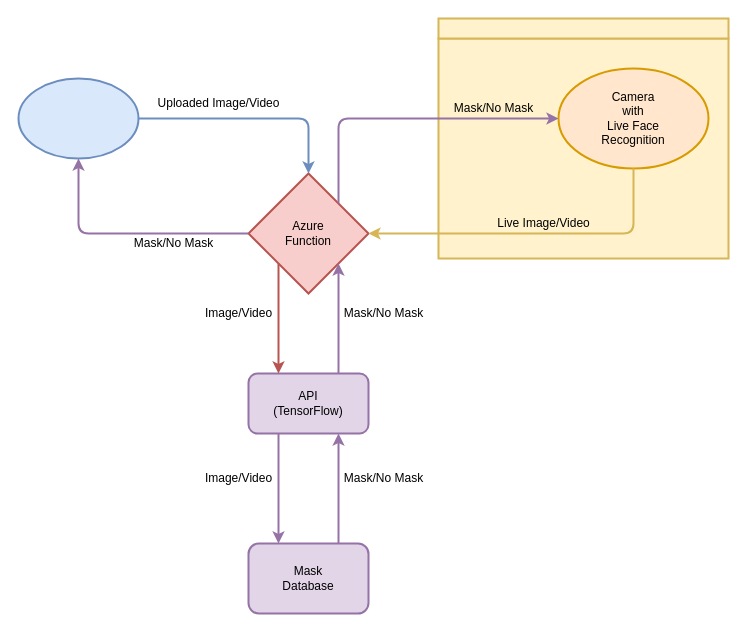
This 746x631 diagram has some shape labels left out. The box of each missing label's shape, as (x1, y1, x2, y2) in pixels:
Front-End (Website): (17, 77, 139, 159)
Possible Addition: (437, 17, 729, 39)
